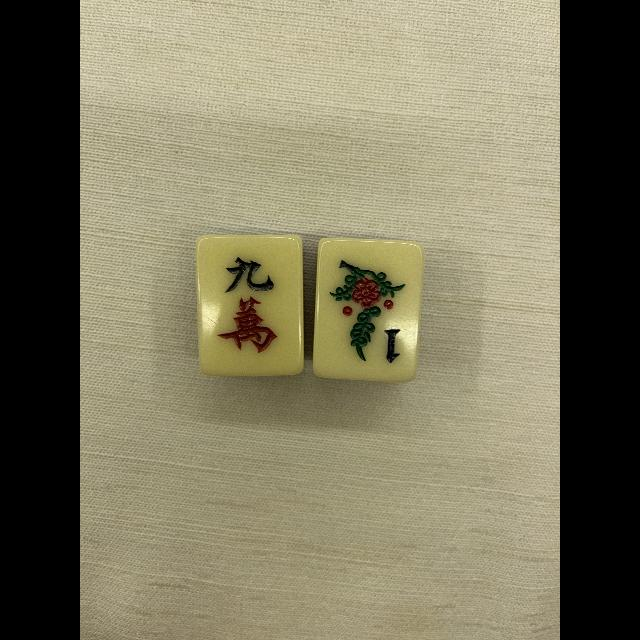c9: (199, 238, 299, 374)
f1-s: (319, 239, 417, 377)
